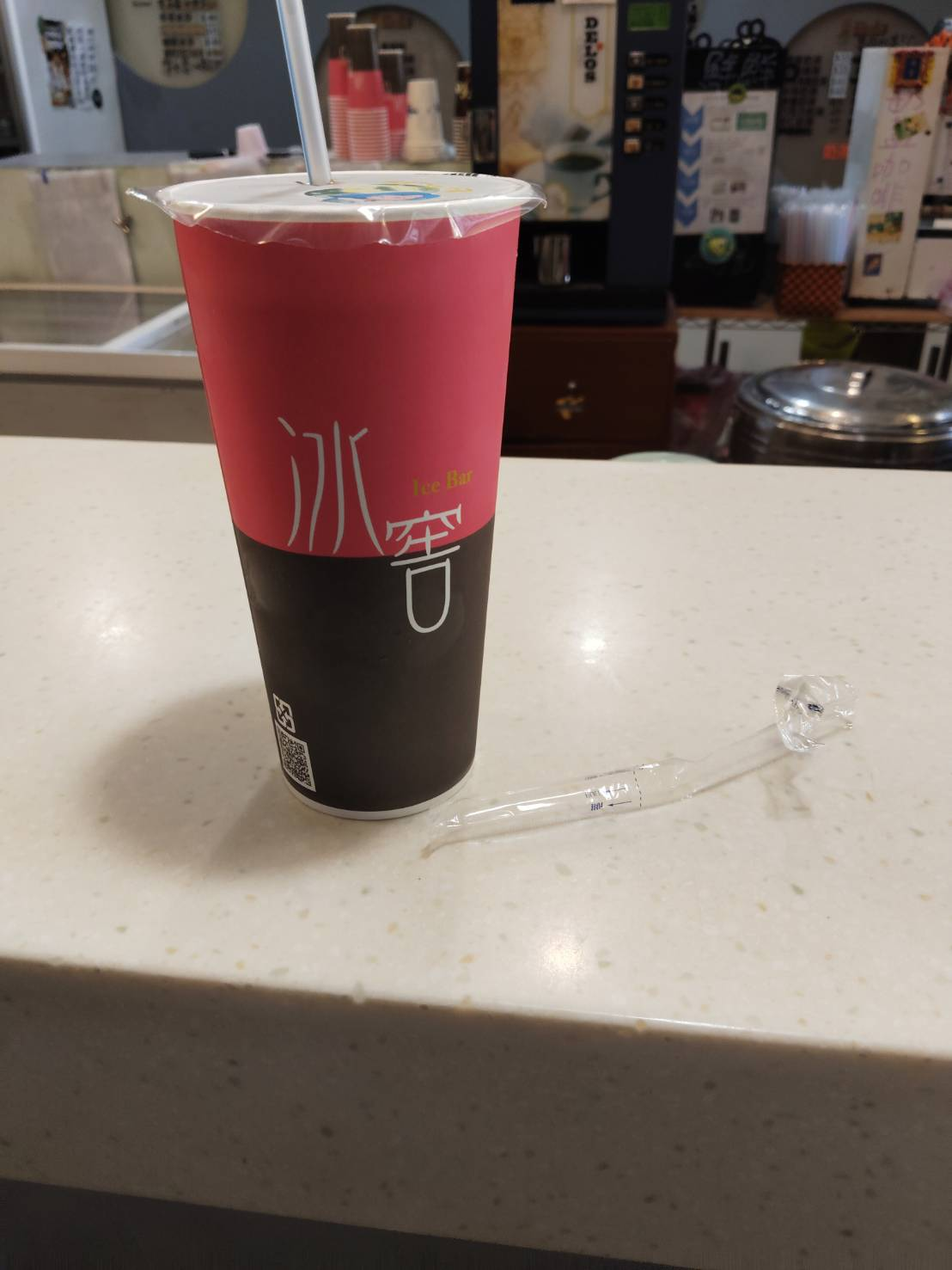paper: (152, 0, 553, 823)
plastic: (369, 636, 914, 943)
